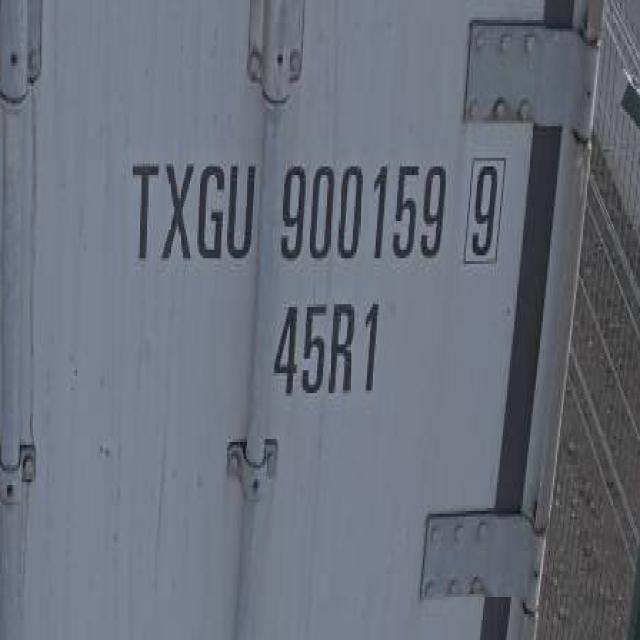dv: (462, 147, 508, 275)
owner: (127, 148, 261, 274)
serial: (276, 150, 450, 272)
size: (267, 291, 388, 409)
